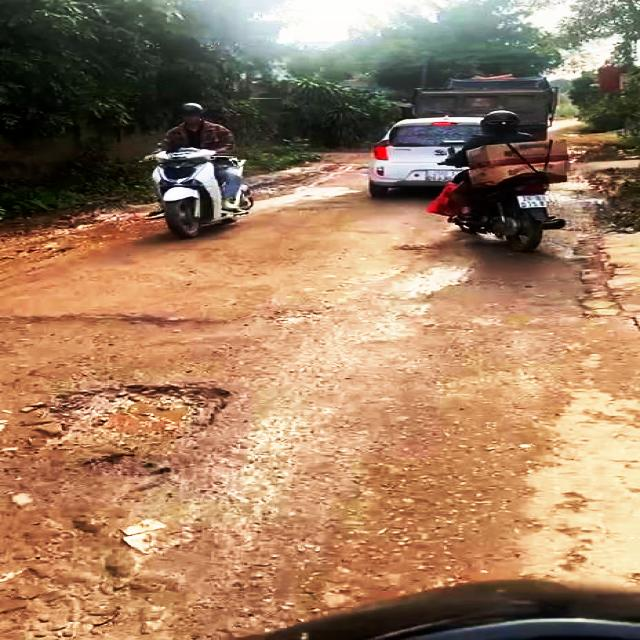pothole: (0, 381, 239, 488), (0, 303, 319, 360)
